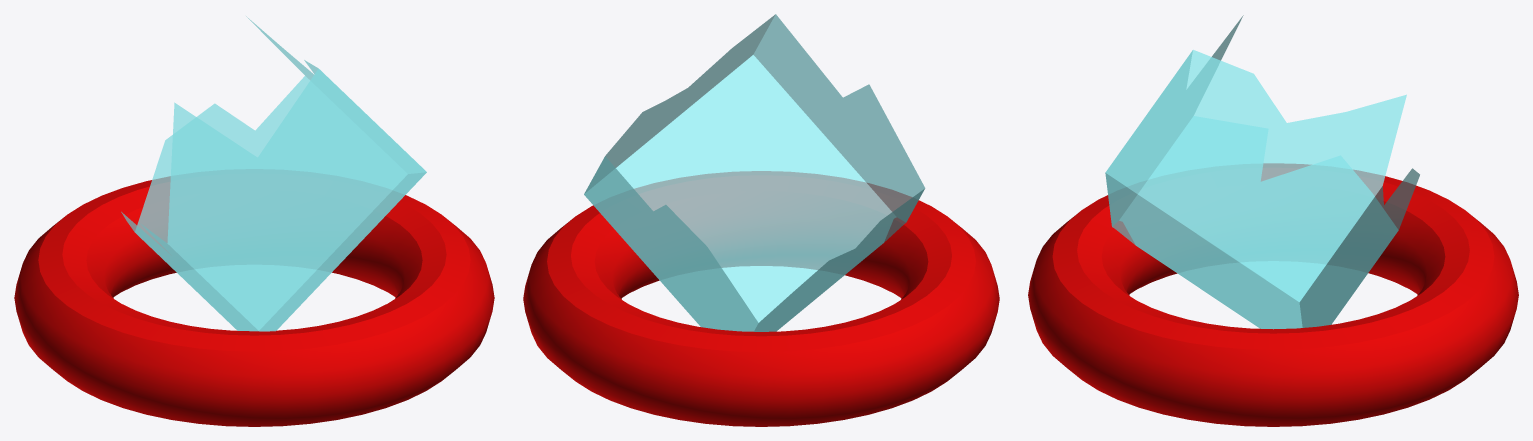
The model's file is BrokenBase.fbx.
3 views of the same model, side by side, from view 1: azimuth 30°, elevation 25°; view 2: azimuth 150°, elevation 25°; view 3: azimuth 270°, elevation 25° (orthographic). The views are drawn at different scales.
Visible parts, largest first — view 1: Base, Glass; view 2: Base, Glass; view 3: Base, Glass.
Boxes of the visible parts, <box> form: Base: <box>14,176,494,426</box>; Glass: <box>121,16,426,331</box>; Base: <box>523,171,999,426</box>; Glass: <box>584,14,925,331</box>; Base: <box>1028,163,1518,426</box>; Glass: <box>1105,15,1419,329</box>.
Size of the model in its own units: 154 by 110 by 154.
